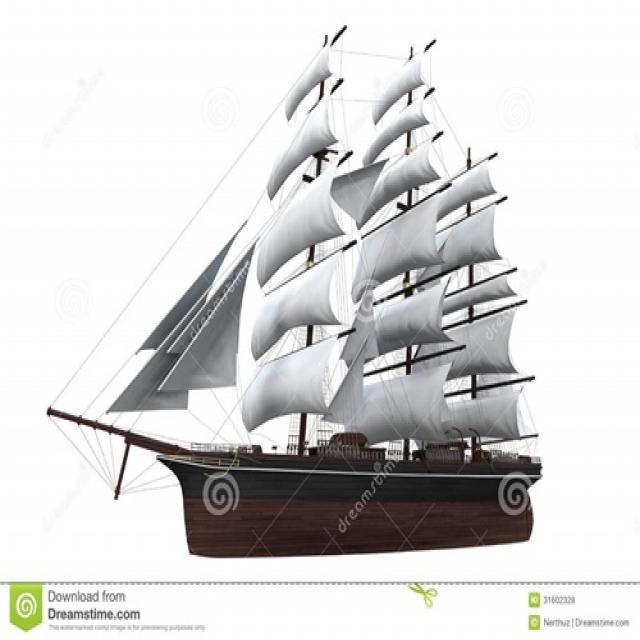Ship: (49, 37, 538, 570)
